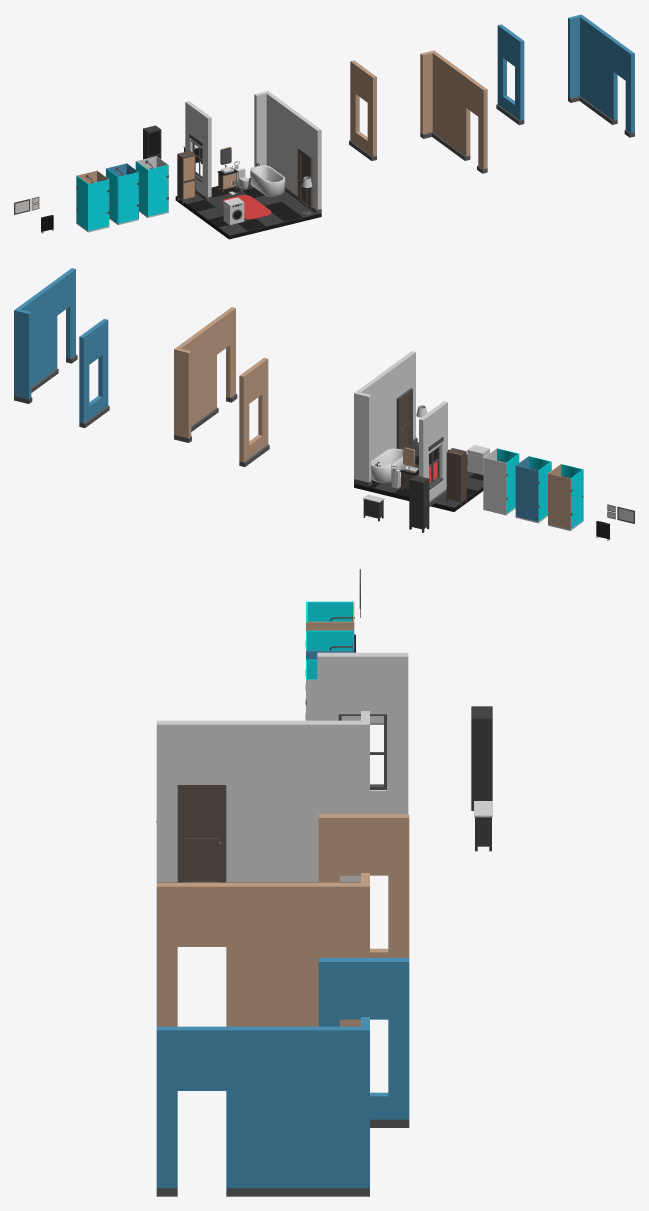
File: bathroom_models.FBX
3 views of the same model, one above another, from view 1: azimuth 30°, elevation 25°; view 2: azimuth 150°, elevation 25°; view 3: azimuth 270°, elevation 25° (orthographic). The views are drawn at different scales.
Parts seen in each view (by area): view 1: Object029, wall_windowblue, wall_windowbr, wall_blue, wall_br, wall_doorbr, wall_doorblue, wall_orange, wall_window_orange, wall_cornerbr, wall_doororange, wall_cornerblue (+16 smaller); view 2: wall_windowbr, wall_windowblue, wall_br, wall_blue, wall_window_orange, wall_doorblue, wall_doorbr, wall_orange, wall_cornerblue, wall_cornerbr, wall_cornerorange1, shower (+14 smaller); view 3: wall_blue, wall_orange, wall_br, wall_doorblue, wall_doororange, wall_doorbr, wall_windowblue, wall_window_orange, wall_windowbr, wall_cornerblue, door, wall_cornerorange1 (+4 smaller).
Boxes of the visible parts, x1=… form: Object029: x1=175, y1=178, x2=321, y2=235; wall_windowblue: x1=496, y1=24, x2=524, y2=125; wall_windowbr: x1=349, y1=60, x2=376, y2=160; wall_blue: x1=584, y1=20, x2=611, y2=120; wall_br: x1=437, y1=56, x2=464, y2=156; wall_doorbr: x1=459, y1=73, x2=487, y2=173; wall_doorblue: x1=607, y1=37, x2=634, y2=137; wall_orange: x1=272, y1=97, x2=298, y2=196; wall_window_orange: x1=185, y1=101, x2=211, y2=201; wall_cornerbr: x1=420, y1=50, x2=441, y2=140; wall_doororange: x1=293, y1=113, x2=321, y2=214; wall_cornerblue: x1=568, y1=14, x2=588, y2=103; wall_windowbr: x1=239, y1=358, x2=269, y2=466; wall_windowblue: x1=79, y1=319, x2=109, y2=427; wall_br: x1=183, y1=325, x2=212, y2=431; wall_blue: x1=23, y1=286, x2=52, y2=392; wall_window_orange: x1=419, y1=401, x2=447, y2=506; wall_doorblue: x1=48, y1=268, x2=77, y2=376; wall_doorbr: x1=207, y1=307, x2=237, y2=415; wall_orange: x1=363, y1=369, x2=391, y2=460; wall_cornerblue: x1=14, y1=304, x2=32, y2=403; wall_cornerbr: x1=174, y1=343, x2=191, y2=442; wall_cornerorange1: x1=354, y1=387, x2=372, y2=486; shower: x1=483, y1=448, x2=519, y2=515; wall_blue: x1=247, y1=1026, x2=338, y2=1196; wall_orange: x1=247, y1=720, x2=338, y2=882; wall_br: x1=247, y1=882, x2=338, y2=1026; wall_doorblue: x1=156, y1=1026, x2=247, y2=1196; wall_doororange: x1=156, y1=720, x2=247, y2=882; wall_doorbr: x1=156, y1=882, x2=247, y2=1026; wall_windowblue: x1=318, y1=958, x2=409, y2=1127; wall_window_orange: x1=317, y1=652, x2=408, y2=814; wall_windowbr: x1=318, y1=814, x2=409, y2=957; wall_cornerblue: x1=338, y1=1017, x2=369, y2=1196; door: x1=179, y1=785, x2=224, y2=882; wall_cornerorange1: x1=338, y1=711, x2=369, y2=882.
Size of the model in its own units: 2174 by 317 by 556.
Materials: 4 (4 with a texture image).
